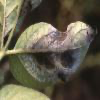Potato leaf late blight: (7, 20, 98, 88)
